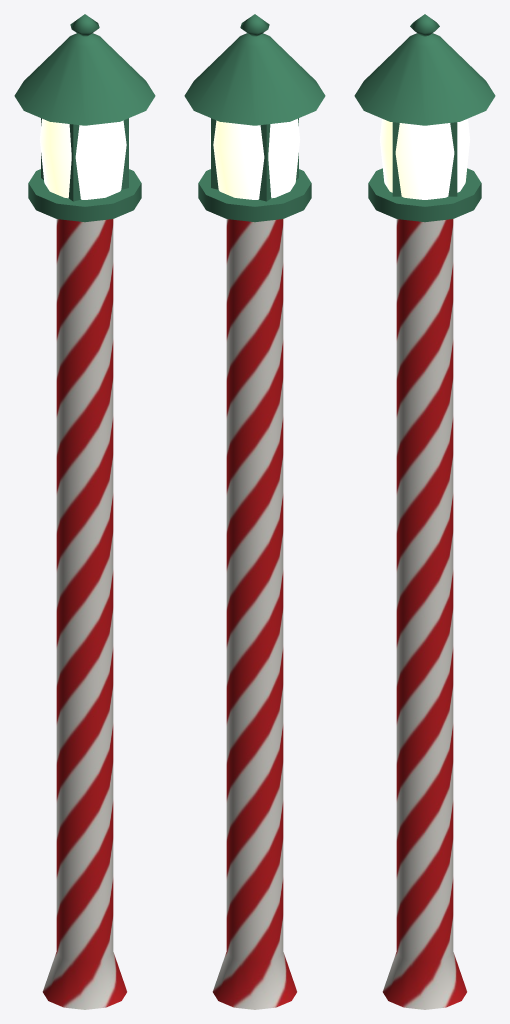
Rendered from SM_UPipe_Light.glb.
3 renders of one model, left to right at view 1: azimuth 30°, elevation 25°; view 2: azimuth 150°, elevation 25°; view 3: azimuth 270°, elevation 25°, orthographic.
Parts seen in each view (by area): view 1: SM_UPipe_Light, glow; view 2: SM_UPipe_Light, glow; view 3: SM_UPipe_Light, glow.
Part boxes in pixels (bbox=[...]): SM_UPipe_Light: bbox=[14, 14, 155, 1009]; glow: bbox=[39, 118, 130, 199]; SM_UPipe_Light: bbox=[184, 14, 325, 1009]; glow: bbox=[209, 118, 300, 199]; SM_UPipe_Light: bbox=[354, 14, 495, 1009]; glow: bbox=[379, 118, 470, 199].
Size of the model in its own units: 0.25 by 1.91 by 0.25.
Materials: 3 (1 with a texture image).
